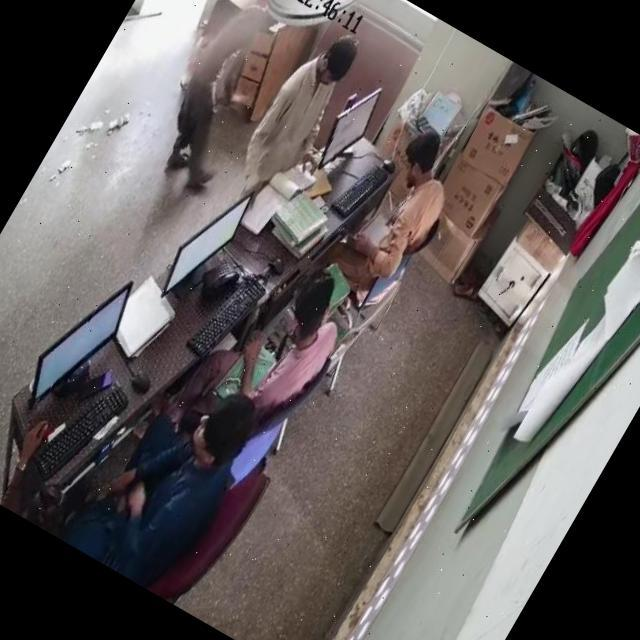person: (70, 355, 270, 597), (135, 0, 279, 190), (336, 130, 466, 295), (239, 23, 364, 194), (225, 263, 358, 415), (0, 447, 89, 538), (0, 362, 27, 490)
